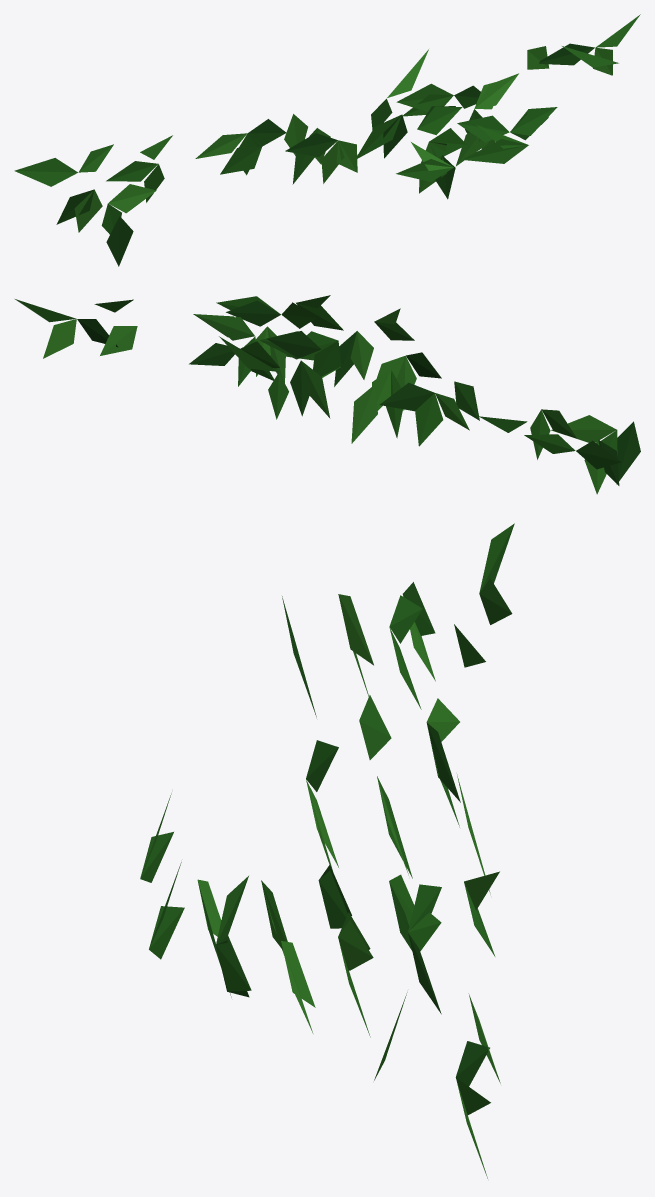
3 views of the same model, one above another, from view 1: azimuth 30°, elevation 25°; view 2: azimuth 150°, elevation 25°; view 3: azimuth 270°, elevation 25° (orthographic). The views are drawn at different scales.
Parts seen in each view (by area): view 1: r9c3_l11; view 2: r9c3_l11; view 3: r9c3_l11.
Boxes of the visible parts, x1,y1,x2,y2 form: r9c3_l11: (14,14,640,266); r9c3_l11: (15,295,640,494); r9c3_l11: (140,523,514,1178).
Bounding box in the file's own units: 1.87 × 0.2803 × 0.4937.
